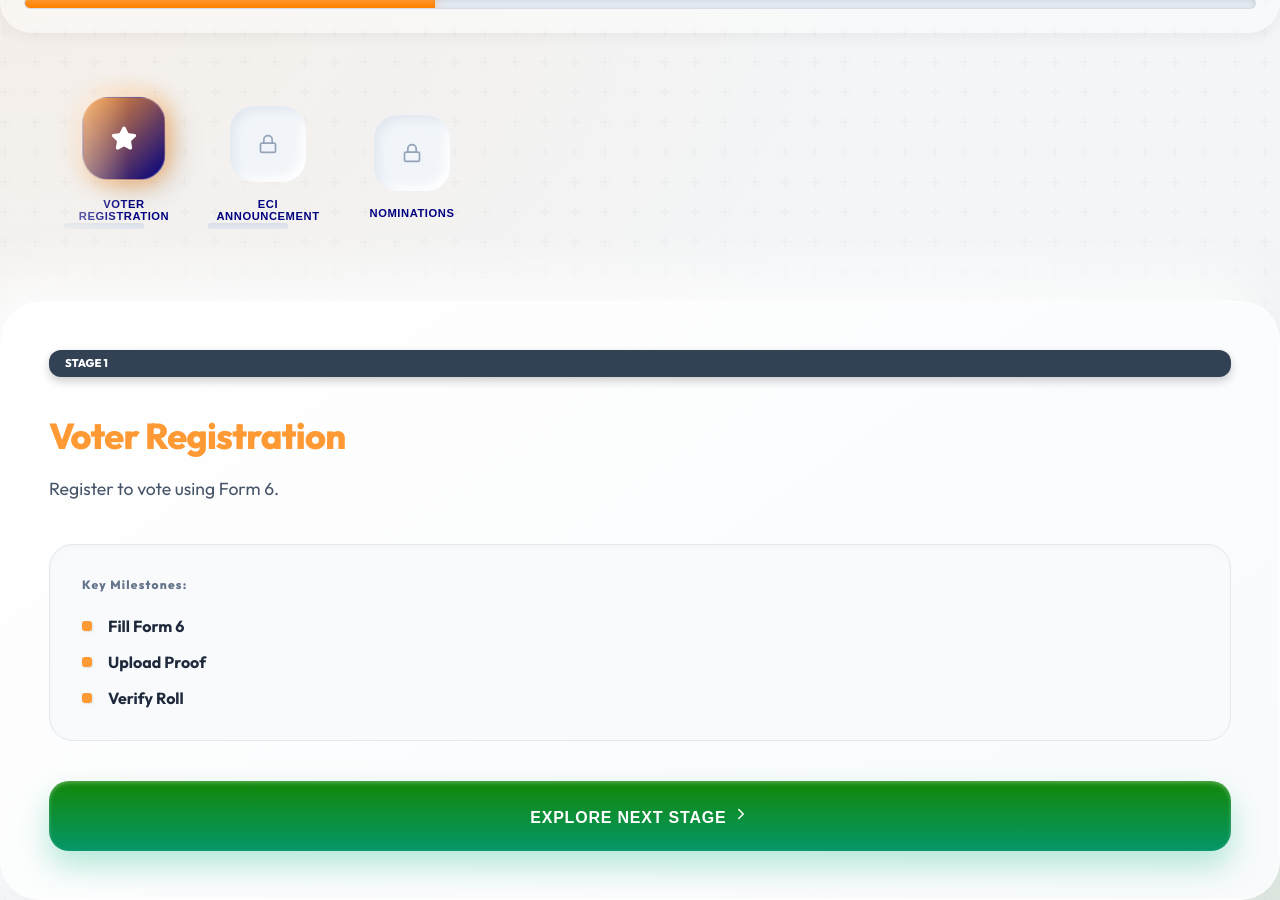
Test: Timeline Component › should unlock next stage when clicking "Explore Next Stage"
The width and height of the screenshot is (1280, 900).
(page scrolled)
Click the button "Explore Next Stage". click: click(640, 816)
box: x1=49 y1=780 x2=1231 y2=850
(page scrolled)
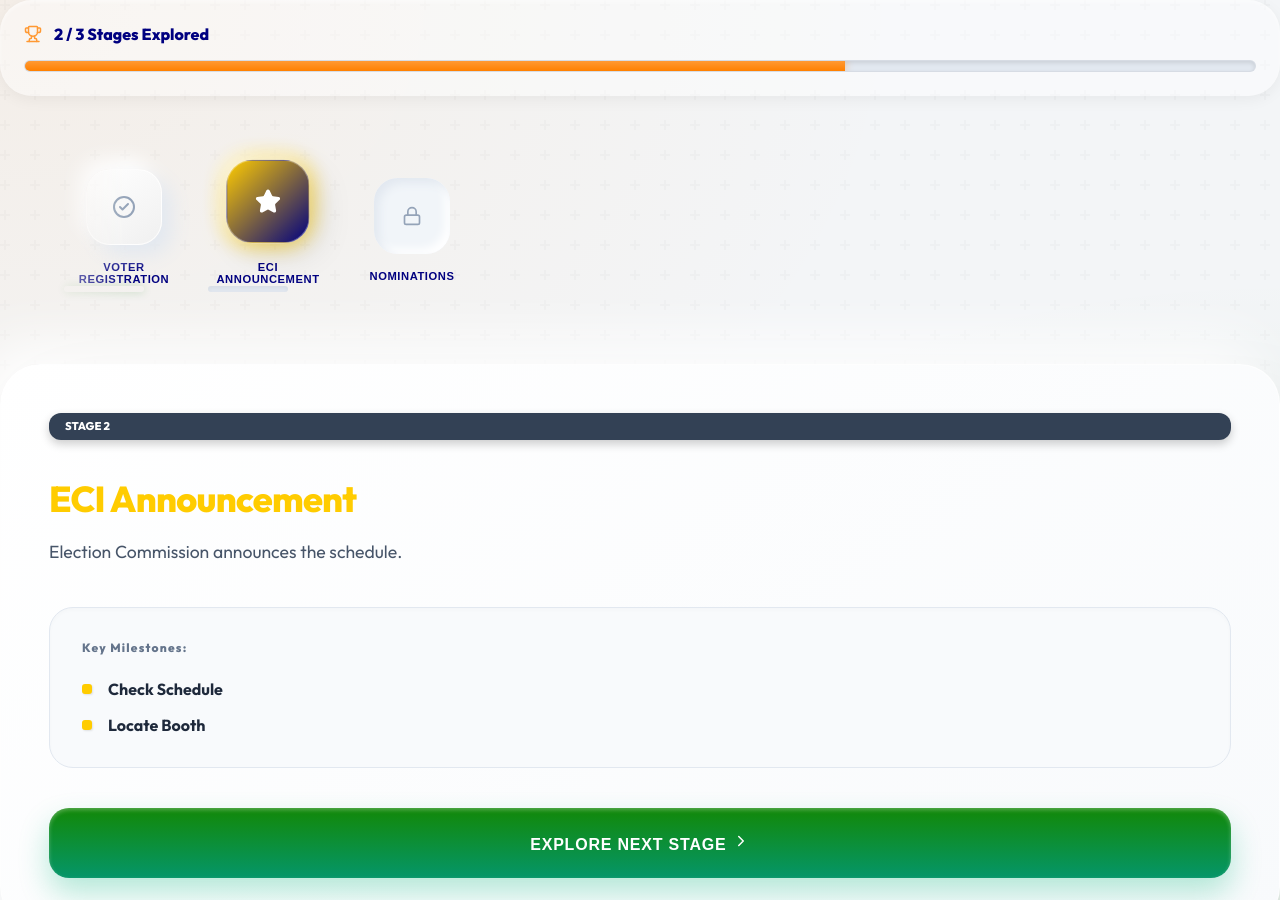
Expected: the text "Election Commission announces the schedule." is shown, x1=49 y1=540 x2=402 y2=563
Expected: the text "Stage 2" is shown, x1=49 y1=413 x2=1231 y2=440
Expected: the text "2 / 3 Stages Explored" is shown, x1=54 y1=24 x2=209 y2=44
